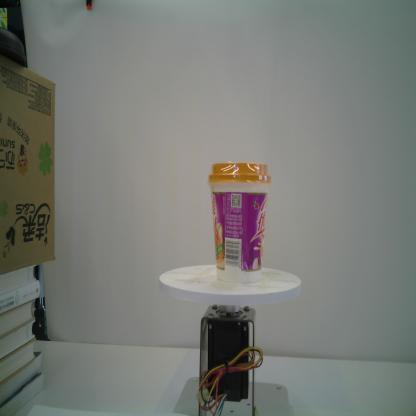Instant Drink: (207, 160, 273, 286)
